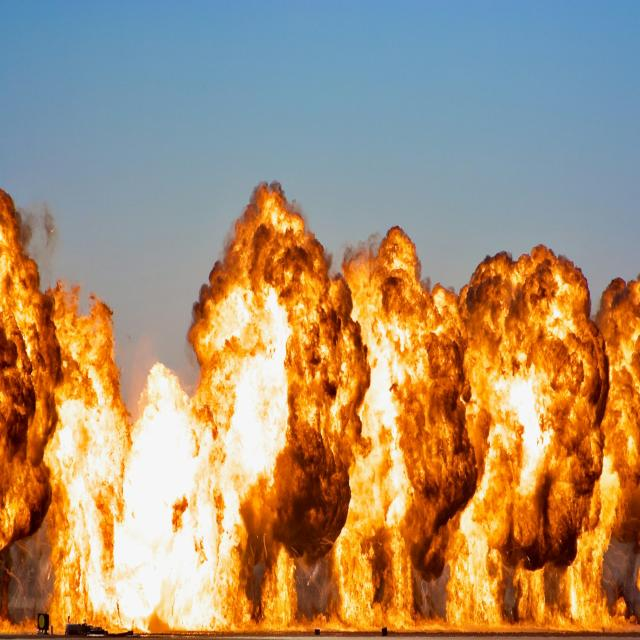explosion: (0, 163, 640, 640)
